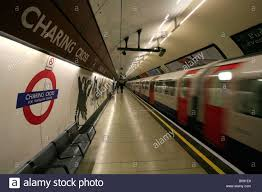London Underground: (17, 69, 59, 125)
